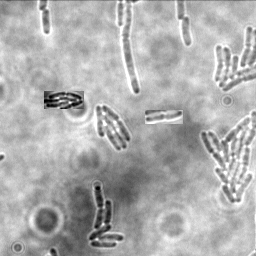Dividing: (123, 1, 142, 95), (145, 110, 183, 124), (41, 8, 52, 35)
Microcolony: (200, 109, 255, 205), (212, 25, 255, 94), (89, 184, 126, 248), (96, 103, 132, 150), (44, 91, 84, 109), (182, 16, 193, 48)
